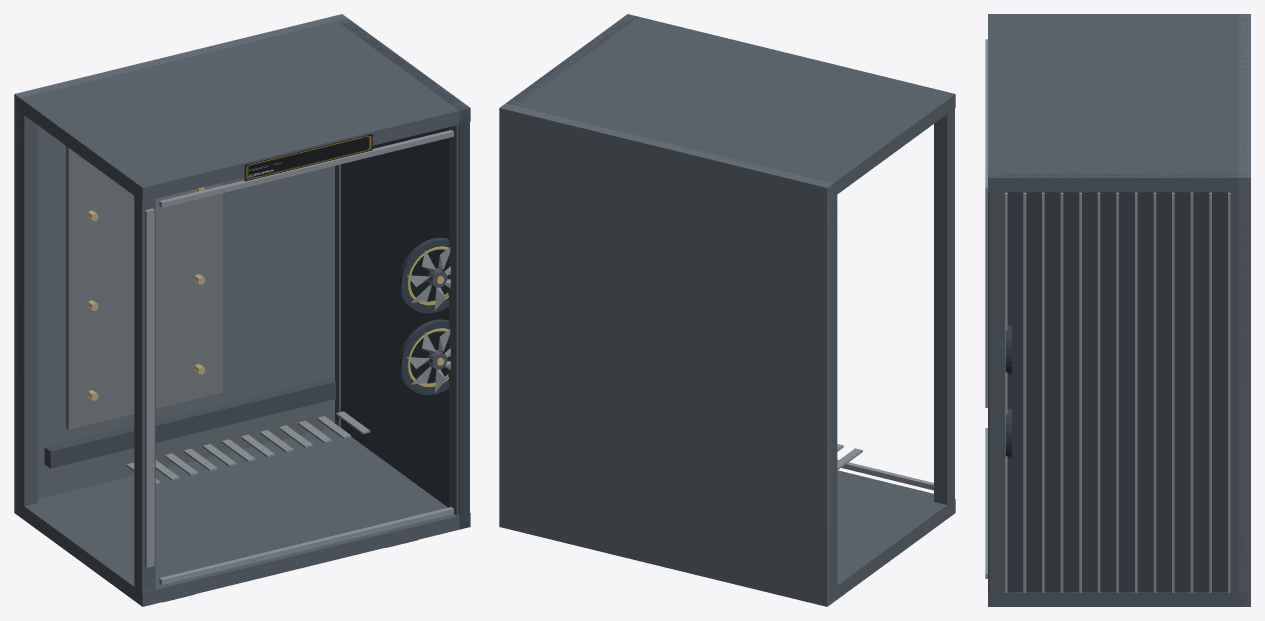
File: case_chasis_corsair_4000d_airflow_mid_tower.glb
3 renders of one model, left to right at view 1: azimuth 30°, elevation 25°; view 2: azimuth 150°, elevation 25°; view 3: azimuth 270°, elevation 25°, orthographic. The views are drawn at different scales.
Visible parts, largest first — view 1: n2, n1, n3, n5, n9, n7, n8, n10, n0, n12, n11; view 2: n1, n2, n3, n9; view 3: n3, n2, n4, n1, n9, n10.
Part boxes in pixels (left/top/right/bottom): n2: left=16, top=15, right=470, bottom=606; n1: left=14, top=14, right=347, bottom=516; n3: left=335, top=19, right=469, bottom=529; n5: left=66, top=146, right=222, bottom=429; n9: left=144, top=130, right=453, bottom=584; n7: left=44, top=377, right=335, bottom=468; n8: left=126, top=411, right=370, bottom=484; n10: left=398, top=237, right=448, bottom=395; n0: left=244, top=134, right=372, bottom=181; n12: left=407, top=247, right=450, bottom=392; n11: left=407, top=246, right=448, bottom=387; n1: left=499, top=103, right=833, bottom=606; n2: left=502, top=14, right=955, bottom=605; n3: left=503, top=15, right=638, bottom=108; n9: left=837, top=459, right=933, bottom=490; n3: left=988, top=172, right=1246, bottom=592; n2: left=988, top=14, right=1247, bottom=606; n4: left=1005, top=192, right=1230, bottom=592; n1: left=1238, top=14, right=1250, bottom=606; n9: left=985, top=39, right=987, bottom=578; n10: left=1005, top=325, right=1011, bottom=458.
Bounding box in the file's own units: 1.76 × 2.18 × 1.18.
Materials: 1 (1 with a texture image).
